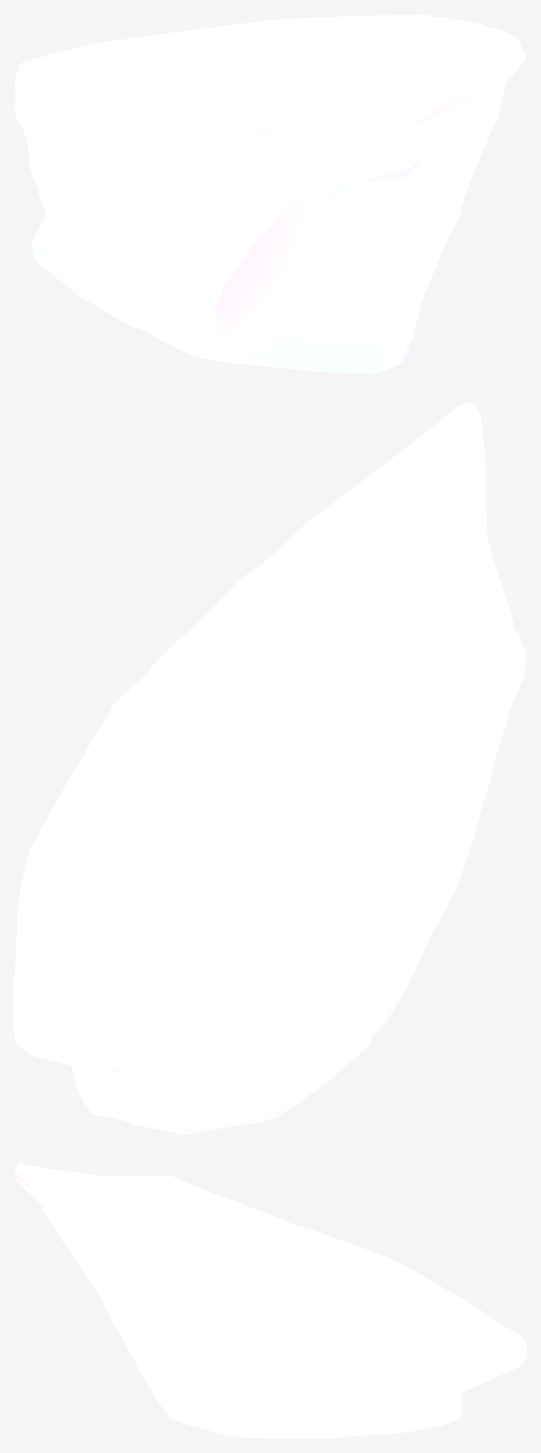
3 views of the same model, one above another, from view 1: azimuth 30°, elevation 25°; view 2: azimuth 150°, elevation 25°; view 3: azimuth 270°, elevation 25° (orthographic). The views are drawn at different scales.
Parts seen in each view (by area): view 1: SM_UmbS_Sm_Plant_04_LOD0; view 2: SM_UmbS_Sm_Plant_04_LOD0; view 3: SM_UmbS_Sm_Plant_04_LOD0.
Part boxes in pixels (x1,y1,x2,y2): SM_UmbS_Sm_Plant_04_LOD0: (14, 14, 526, 373); SM_UmbS_Sm_Plant_04_LOD0: (14, 402, 526, 1134); SM_UmbS_Sm_Plant_04_LOD0: (14, 1163, 526, 1438).
Bounding box in the file's own units: 0.8906 × 1.15 × 2.09.
